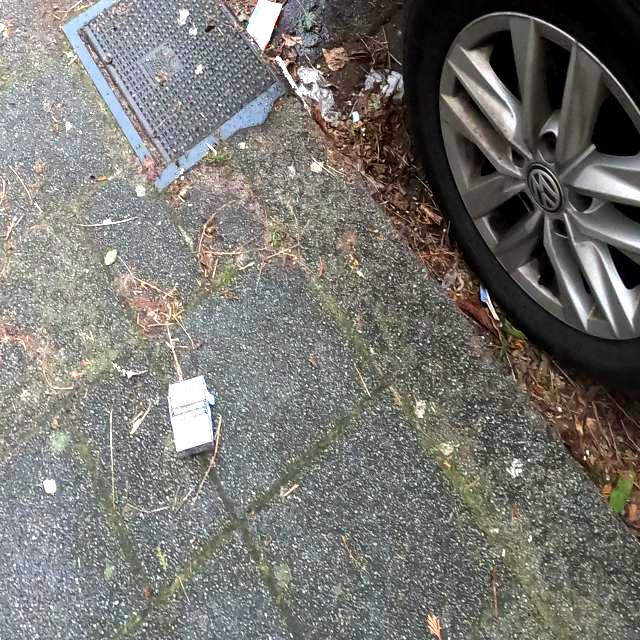Paper: (167, 374, 215, 460), (297, 66, 339, 124)
Plastic: (245, 0, 282, 52)
